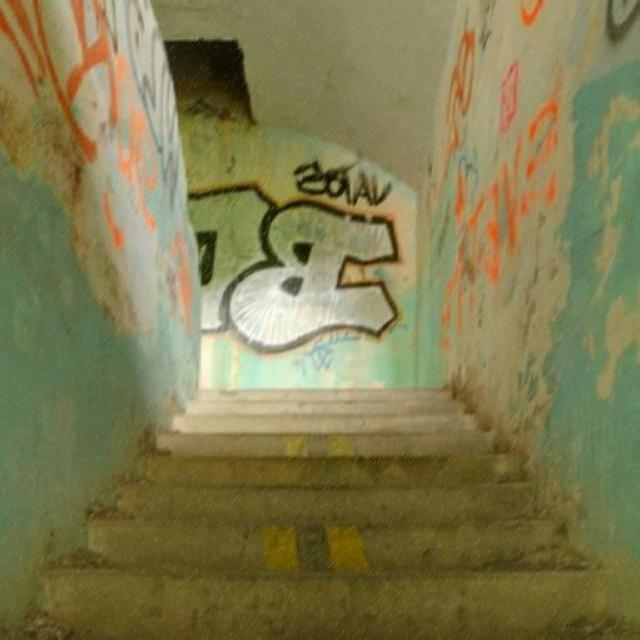stair: (0, 384, 639, 640)
